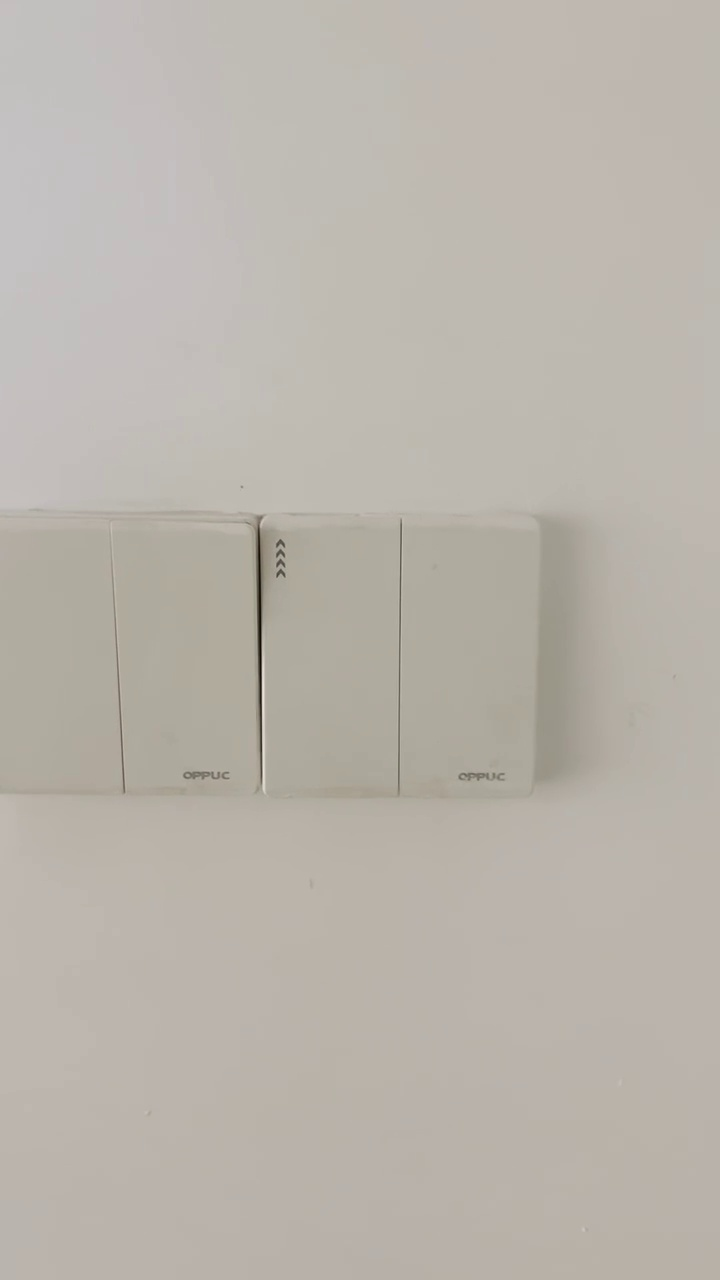button1: (114, 523, 258, 793), (265, 522, 399, 795), (406, 522, 530, 792), (0, 519, 119, 794)
